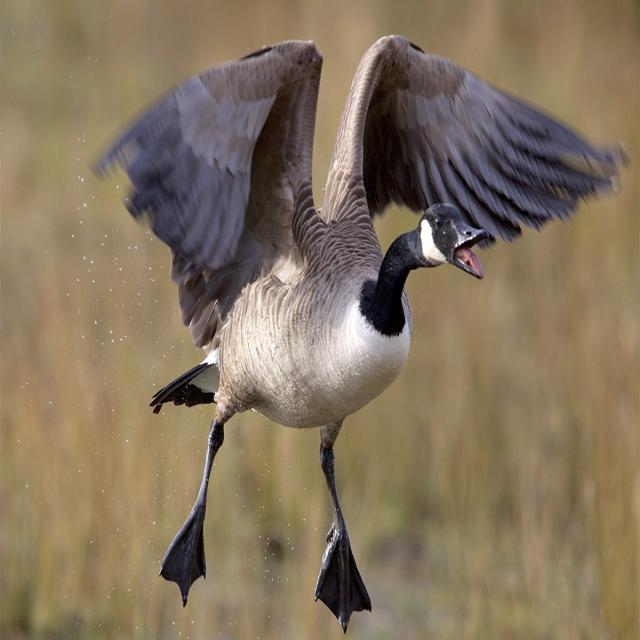Goose: (98, 33, 591, 611)
